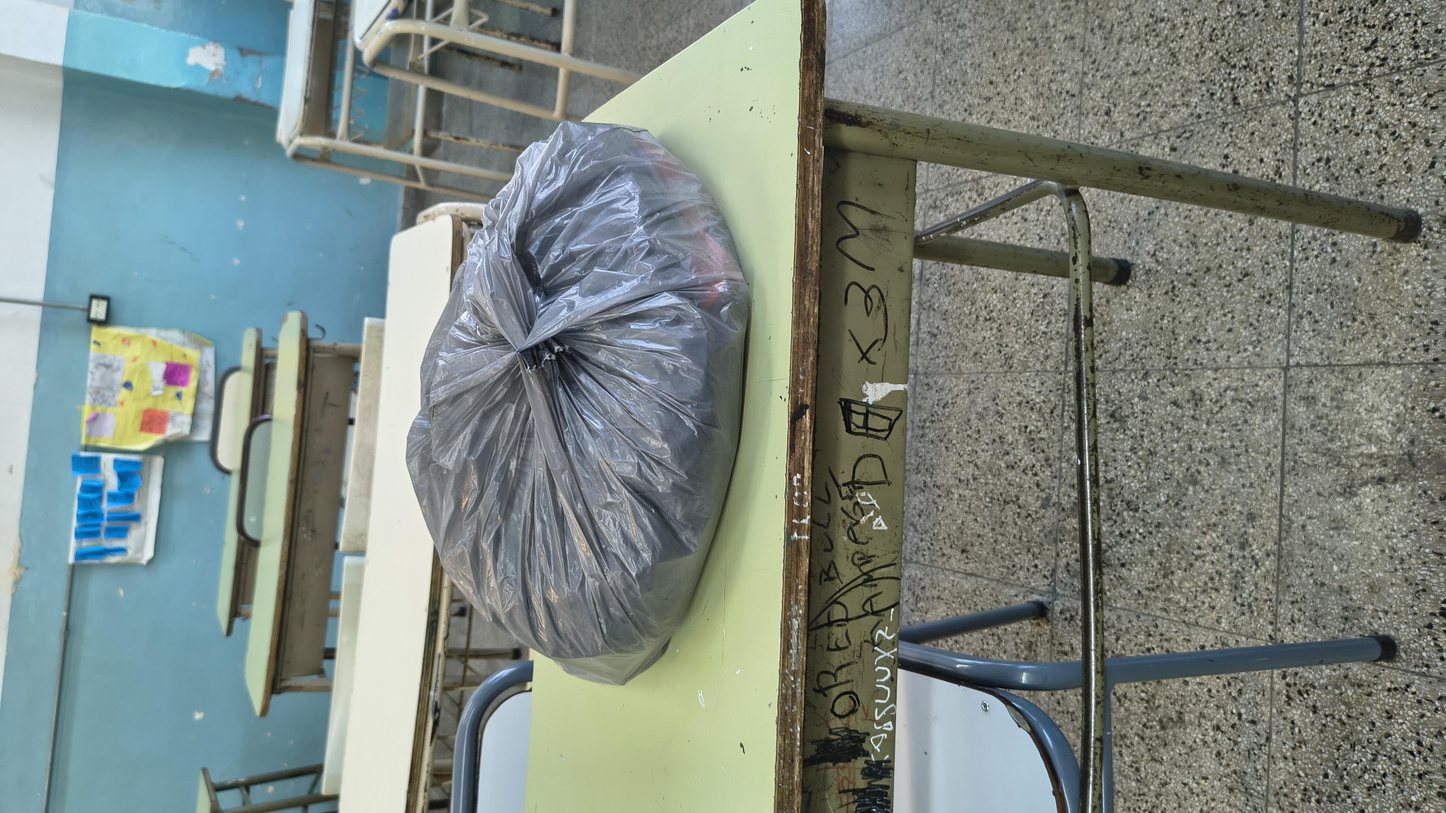Garbage: (151, 206, 1343, 447)
